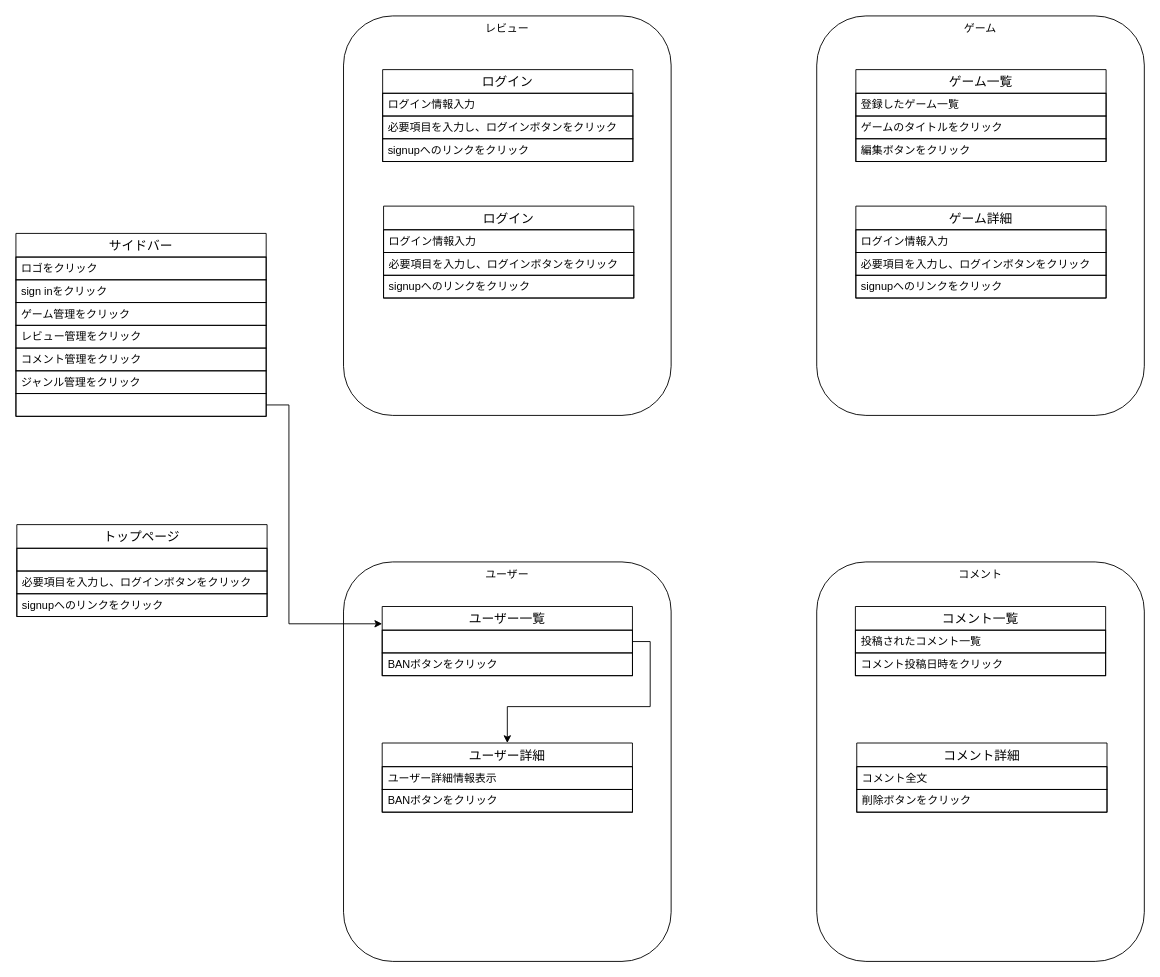
Some shapes in this 1160 by 977 pixel diagram are drawn without their labels. The shapes that lost their labels are listed below. From the top down, each one's centre as x and y in pixels, then its label:
(140,404): ユーザー管理をクリック
(506,641): ユーザーの名前をクリック
